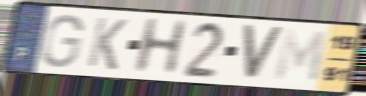2: (181, 19, 226, 81)
G: (39, 12, 85, 70)
H: (129, 16, 191, 76)
K: (84, 15, 130, 73)
M: (272, 27, 329, 85)
V: (240, 22, 286, 83)
